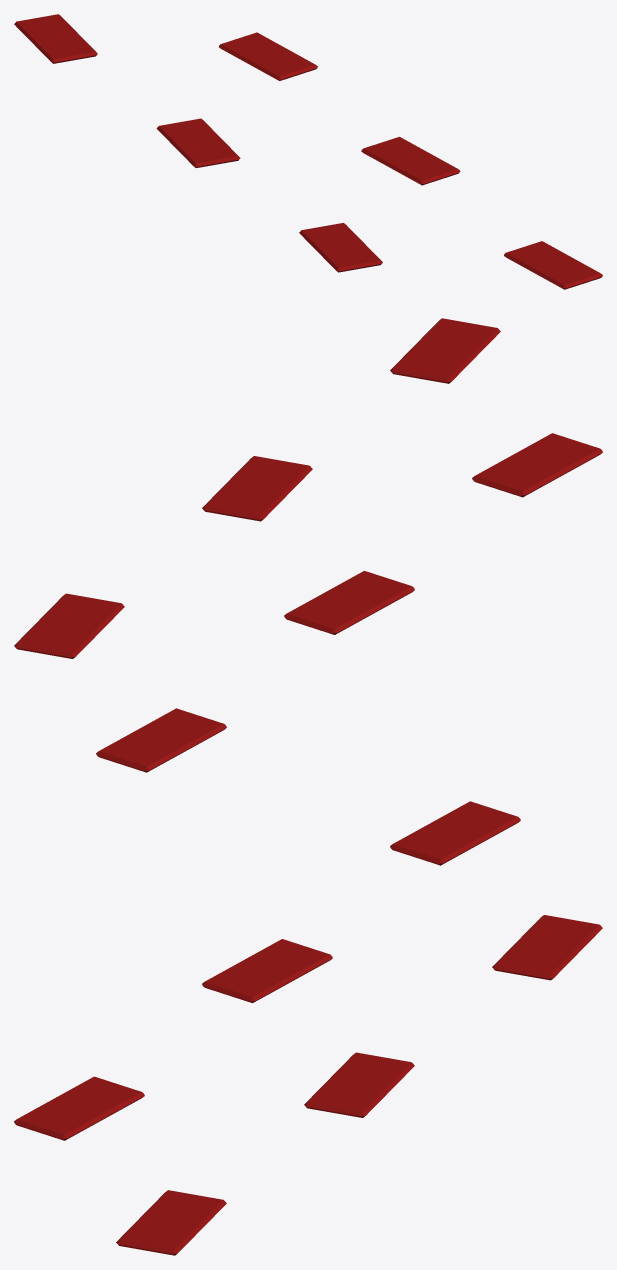
The model's file is BloodyFootprints.fbx.
3 views of the same model, one above another, from view 1: azimuth 30°, elevation 25°; view 2: azimuth 150°, elevation 25°; view 3: azimuth 330°, elevation 25° (orthographic). The views are drawn at different scales.
Visible parts, largest first — view 1: BloodyFootprints; view 2: BloodyFootprints; view 3: BloodyFootprints.
Part boxes in pixels (box(x1,y1,x2,y2)): BloodyFootprints: box(14, 14, 602, 289); BloodyFootprints: box(14, 318, 602, 772); BloodyFootprints: box(14, 801, 602, 1255).
Bounding box in the file's own units: 44.38 × 1 × 161.
1 material, 1 textured.
